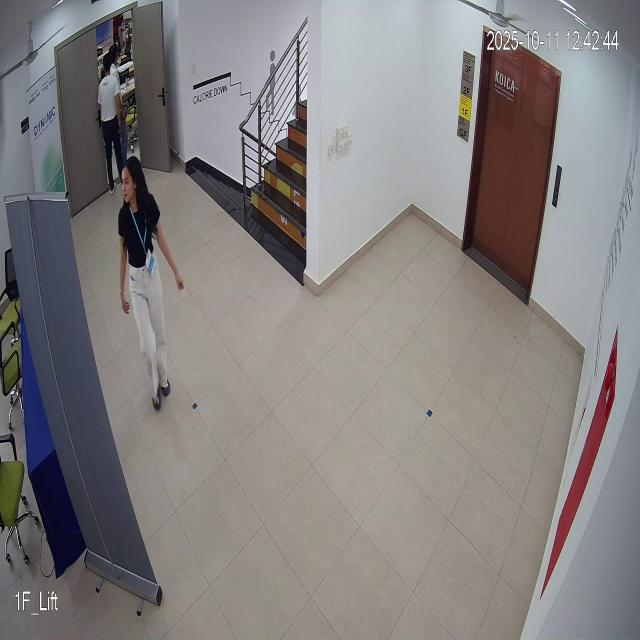face: (116, 147, 150, 216)
